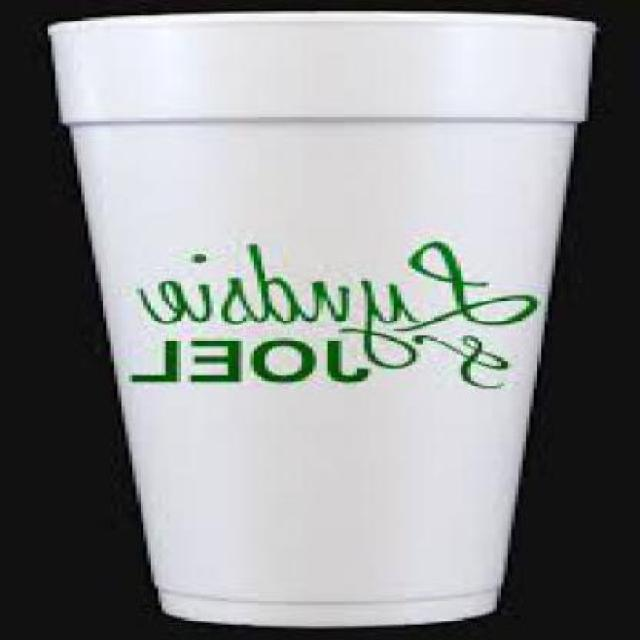PAPER: (52, 8, 603, 627)
